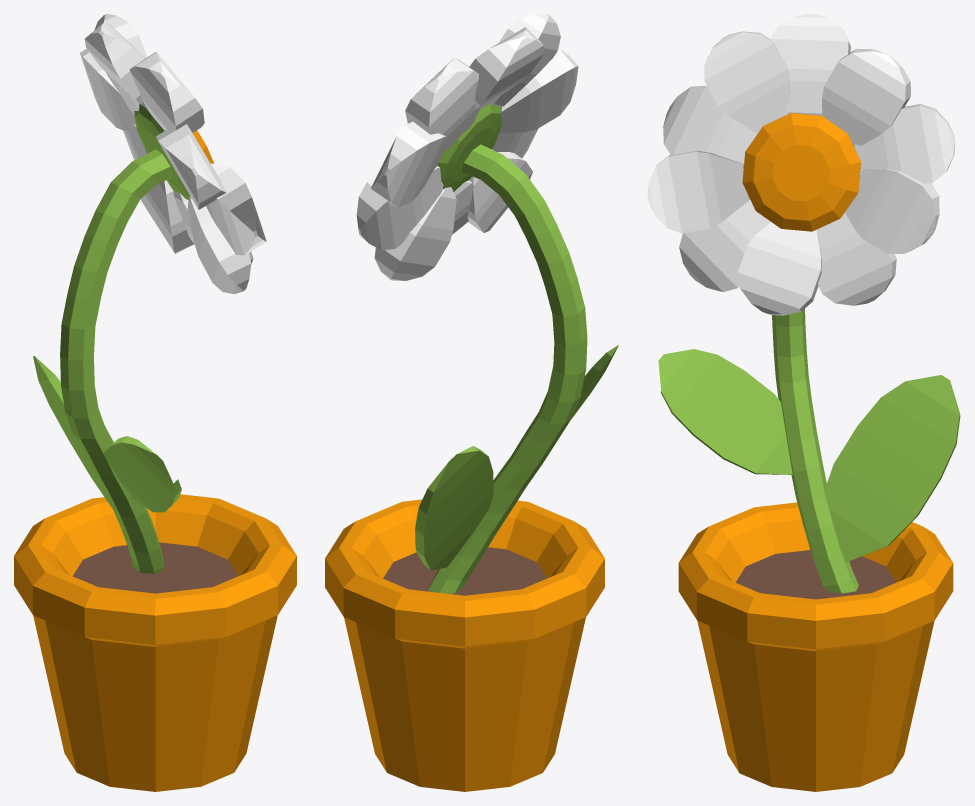
The model's file is group604741097_lev3.glb.
3 renders of one model, left to right at view 1: azimuth 30°, elevation 25°; view 2: azimuth 150°, elevation 25°; view 3: azimuth 270°, elevation 25°, orthographic. The views are drawn at different scales.
Parts seen in each view (by area): view 1: group604741097_lev3; view 2: group604741097_lev3; view 3: group604741097_lev3.
Part boxes in pixels (x1=…): group604741097_lev3: x1=14, y1=14, x2=296, y2=791; group604741097_lev3: x1=325, y1=14, x2=618, y2=791; group604741097_lev3: x1=647, y1=14, x2=960, y2=791.
Size of the model in its own units: 1.68 by 4.82 by 1.92.
